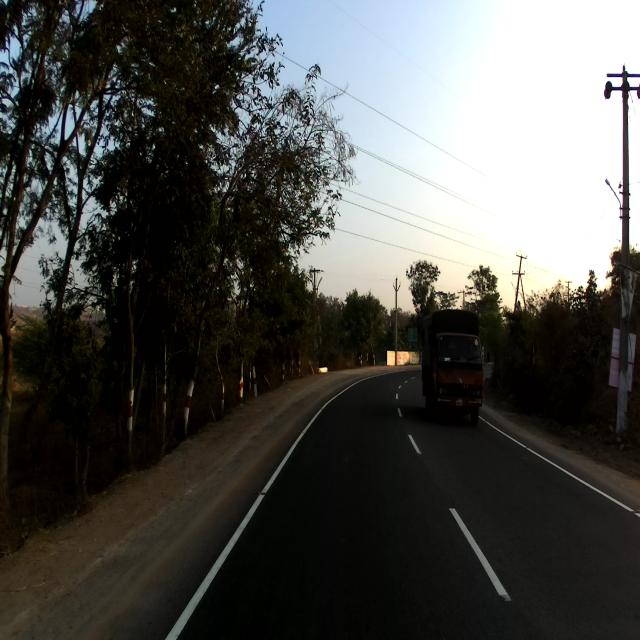truck ahead at: (412, 309, 488, 427)
